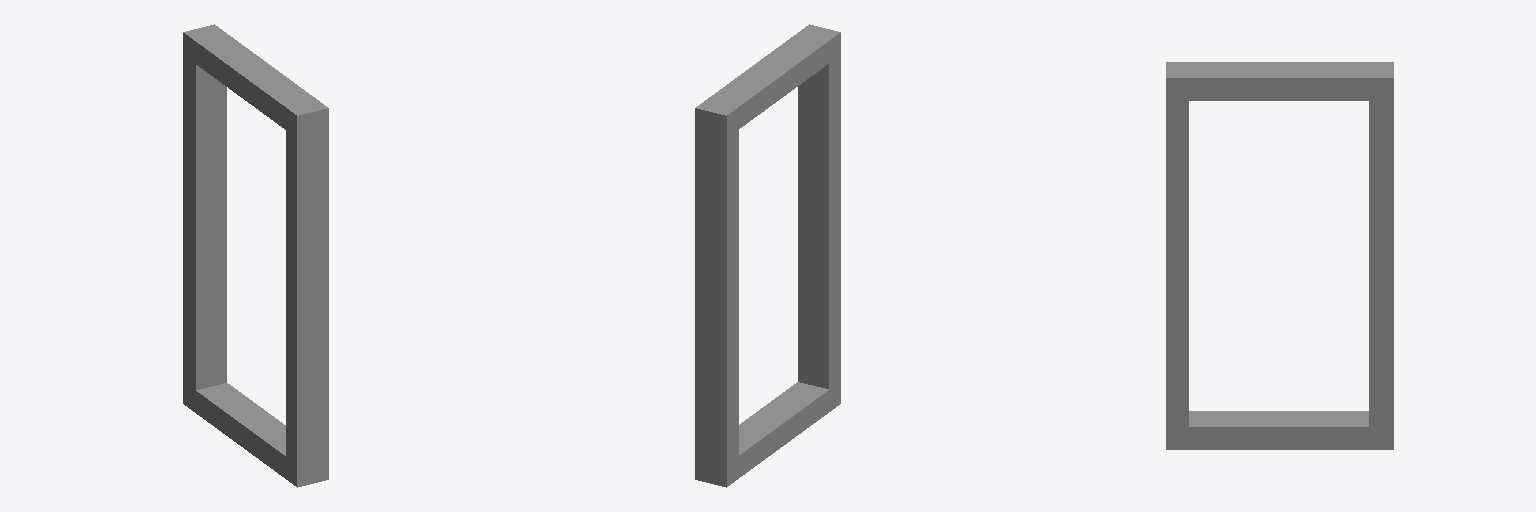
The model's file is door_frame.obj.
3 renders of one model, left to right at view 1: azimuth 30°, elevation 25°; view 2: azimuth 150°, elevation 25°; view 3: azimuth 270°, elevation 25°, orthographic.
Visible parts, largest first — view 1: Frame_Cube.001; view 2: Frame_Cube.001; view 3: Frame_Cube.001.
Boxes of the visible parts, <box> form: Frame_Cube.001: <box>183,24,328,487</box>; Frame_Cube.001: <box>695,24,840,487</box>; Frame_Cube.001: <box>1166,62,1393,449</box>.
Bounding box in the file's own units: 0.2 × 2.24 × 1.25.